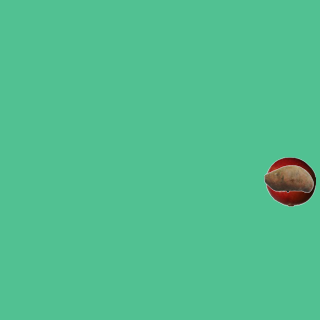Apple Braeburn: (265, 156, 315, 206)
Potato Sweet: (263, 153, 313, 203)
